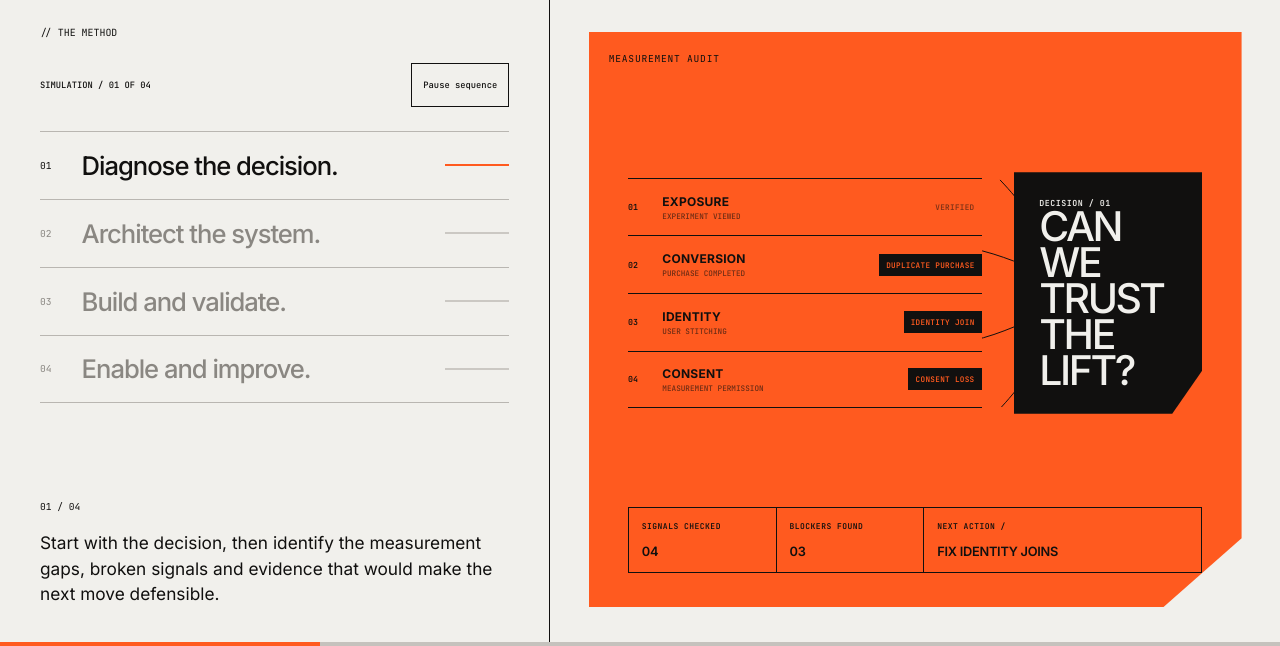
it: renders four selectable process states and updates the active decision visual
The image size is (1280, 646).
(page scrolled)
Step 1. Click the button "04 Enable and improve." → (275, 369), box x1=40 y1=335 x2=509 y2=403
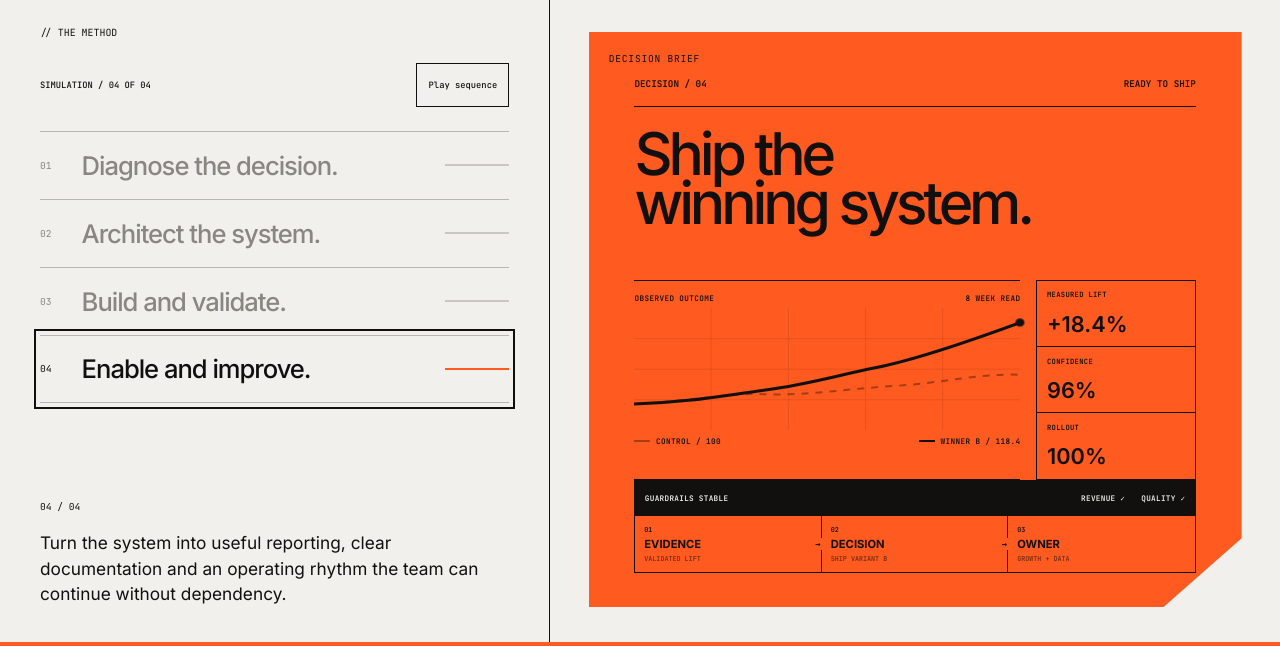
Now the text "Decision brief" is shown, box x1=609 y1=52 x2=700 y2=65
Now the element that starts with "DECISION / 04" is shown, box x1=634 y1=78 x2=1196 y2=573
Now the element showing "OBSERVED OUTCOME 8 WEEK READ CONTROL / 100 WINNER B / 118.4" is shown, box x1=634 y1=280 x2=1020 y2=480
